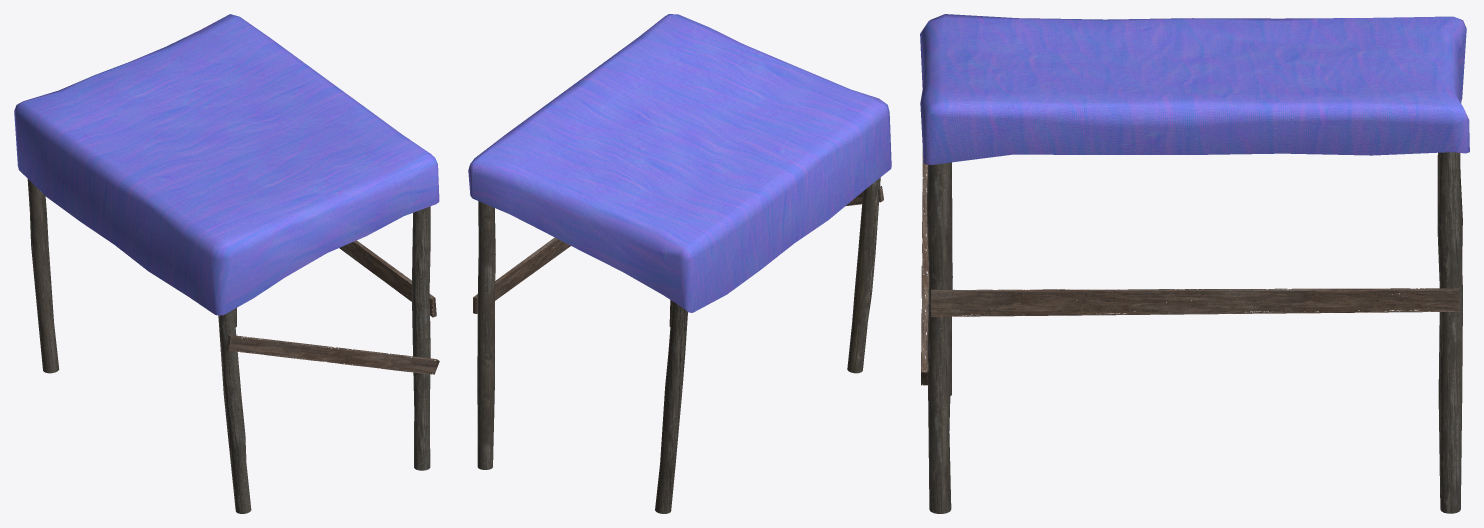
File: SM_tent_02.fbx
3 renders of one model, left to right at view 1: azimuth 30°, elevation 25°; view 2: azimuth 150°, elevation 25°; view 3: azimuth 270°, elevation 25°, orthographic. The views are drawn at different scales.
Parts seen in each view (by area): view 1: SM_tent_02_LOD0; view 2: SM_tent_02_LOD0; view 3: SM_tent_02_LOD0.
Part boxes in pixels (x1=…): SM_tent_02_LOD0: x1=14, y1=14, x2=439, y2=513; SM_tent_02_LOD0: x1=468, y1=14, x2=891, y2=513; SM_tent_02_LOD0: x1=920, y1=14, x2=1469, y2=513.
Bounding box in the file's own units: 264 × 421 × 349.
3 materials, 3 textured.
